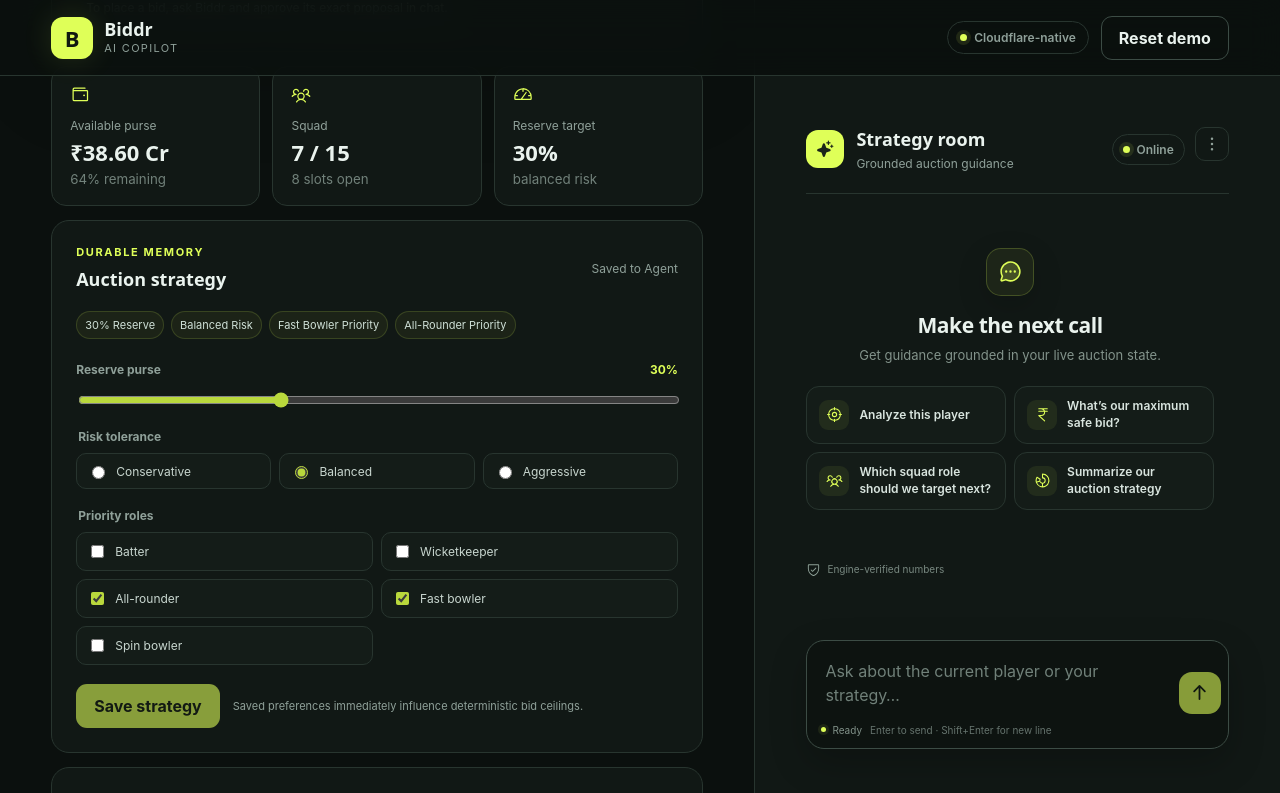
Biddr application shell › shows active preferences and saves strategy changes to the Agent
(page scrolled)
Expected: the element named "Active strategy preferences" shows "30% reserve", [76, 311, 516, 339]
Expected: the element named "Active strategy preferences" shows "balanced risk", [76, 311, 516, 339]
Set the slider labelled "Reserve purse 30%" to "40". click: (347, 400)
box: [78, 392, 680, 408]
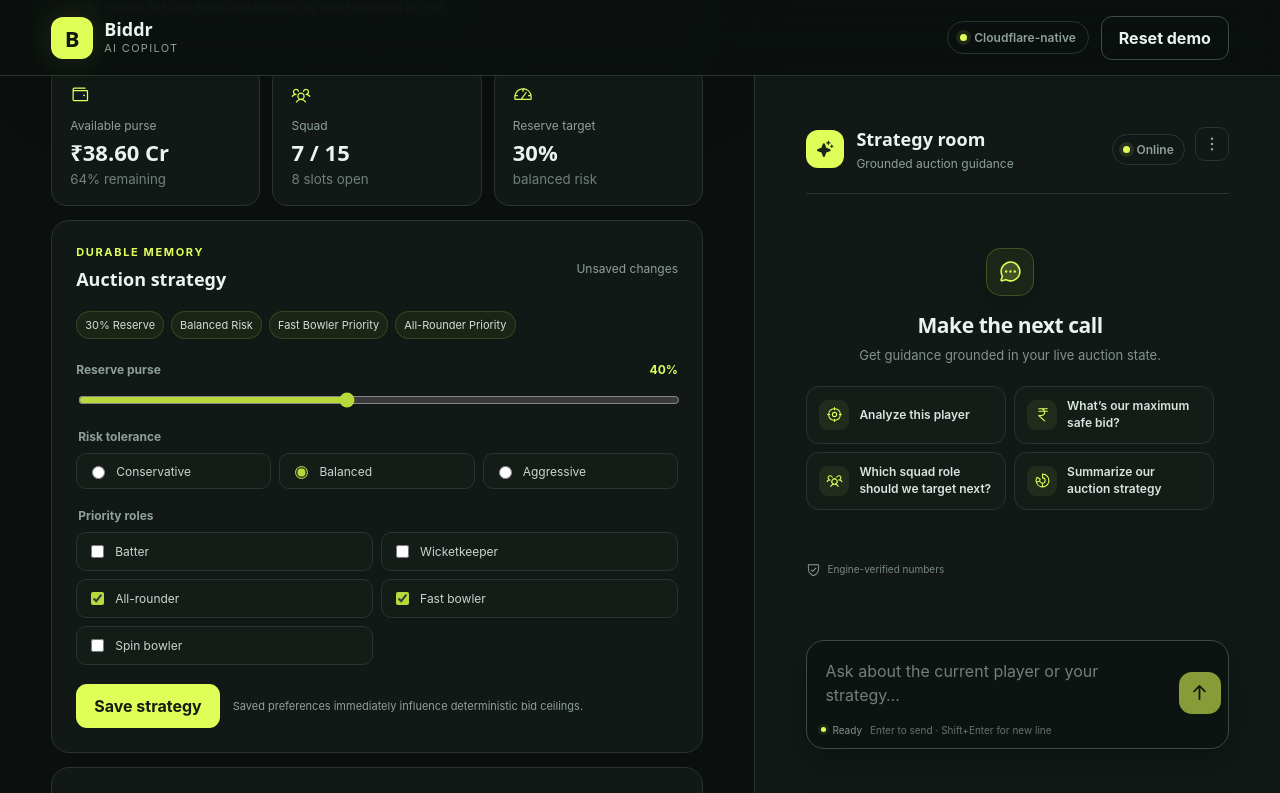
Click the radio button labelled "Aggressive". click: (505, 473)
box: [499, 466, 512, 479]
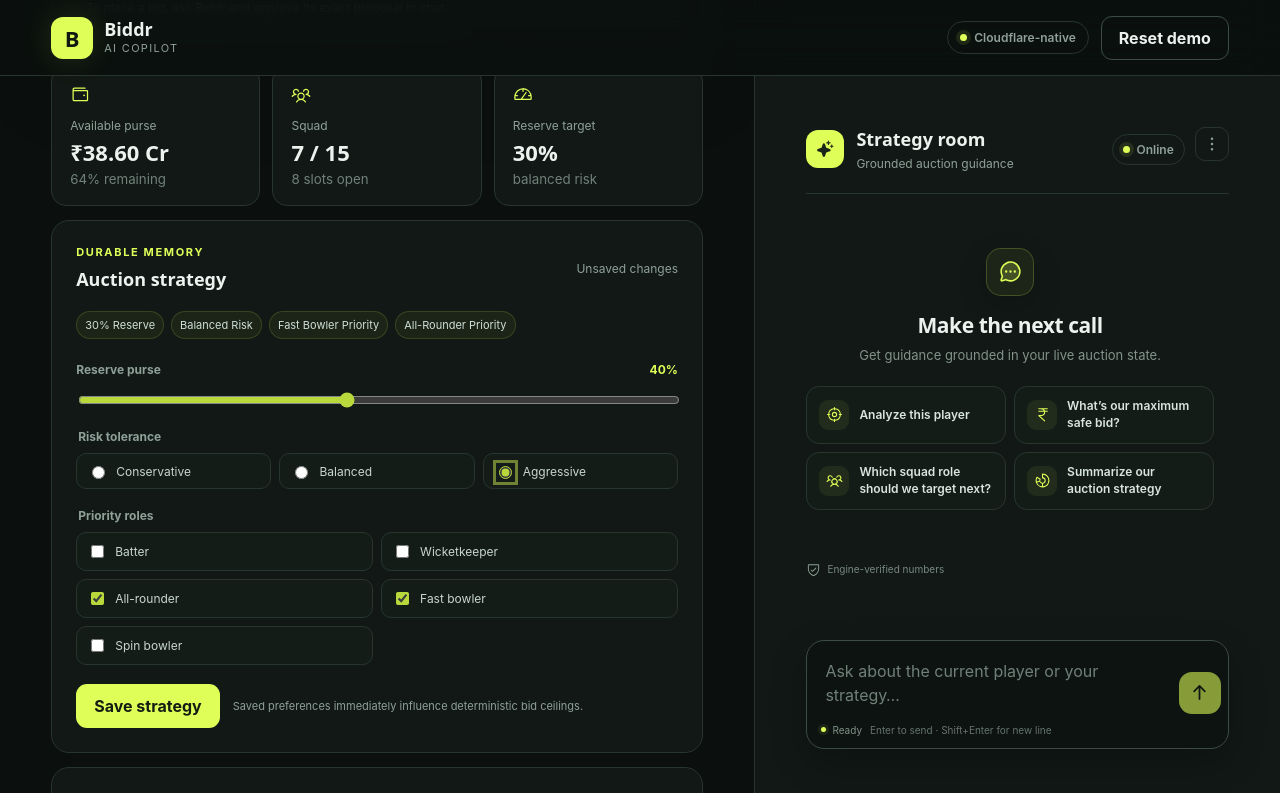
Click the checkbox labelled "Batter". click: (98, 552)
box: [91, 545, 104, 558]
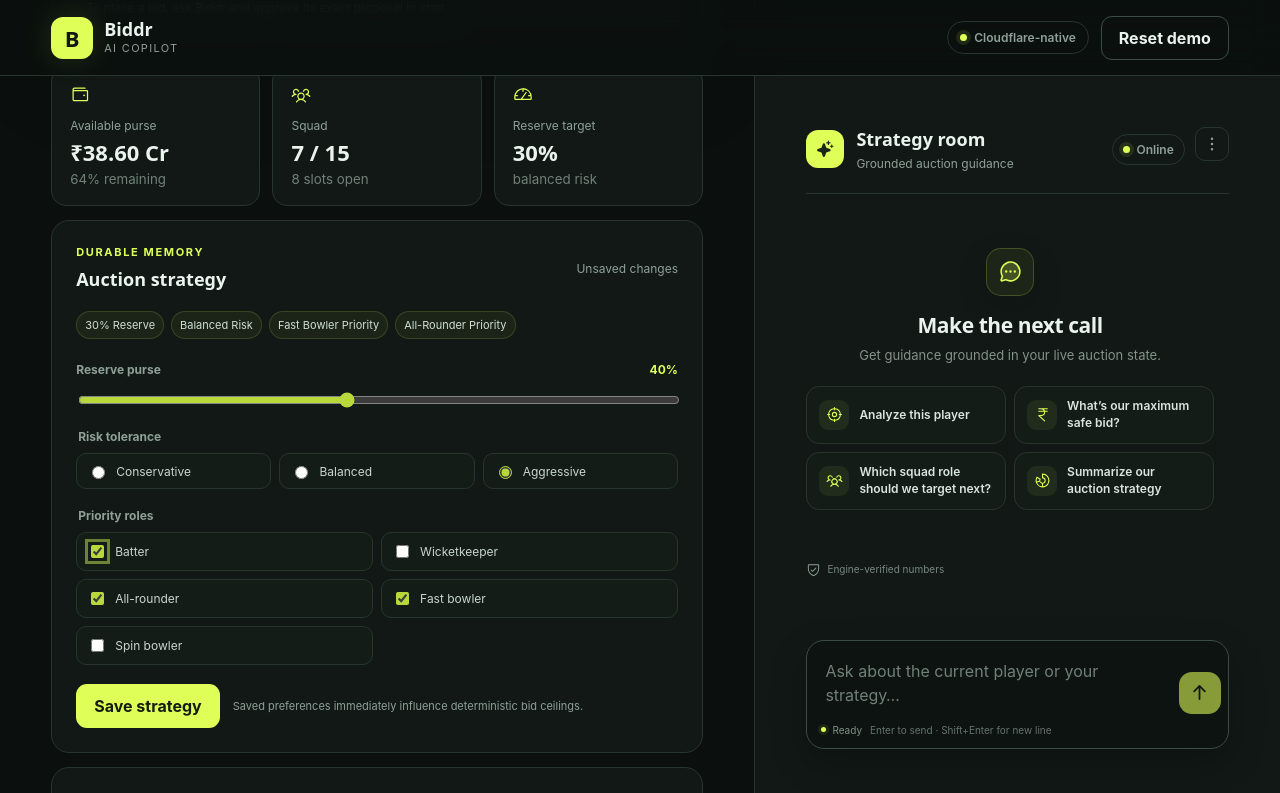
Click the button "Save strategy". click: (148, 706)
box: [76, 684, 220, 728]
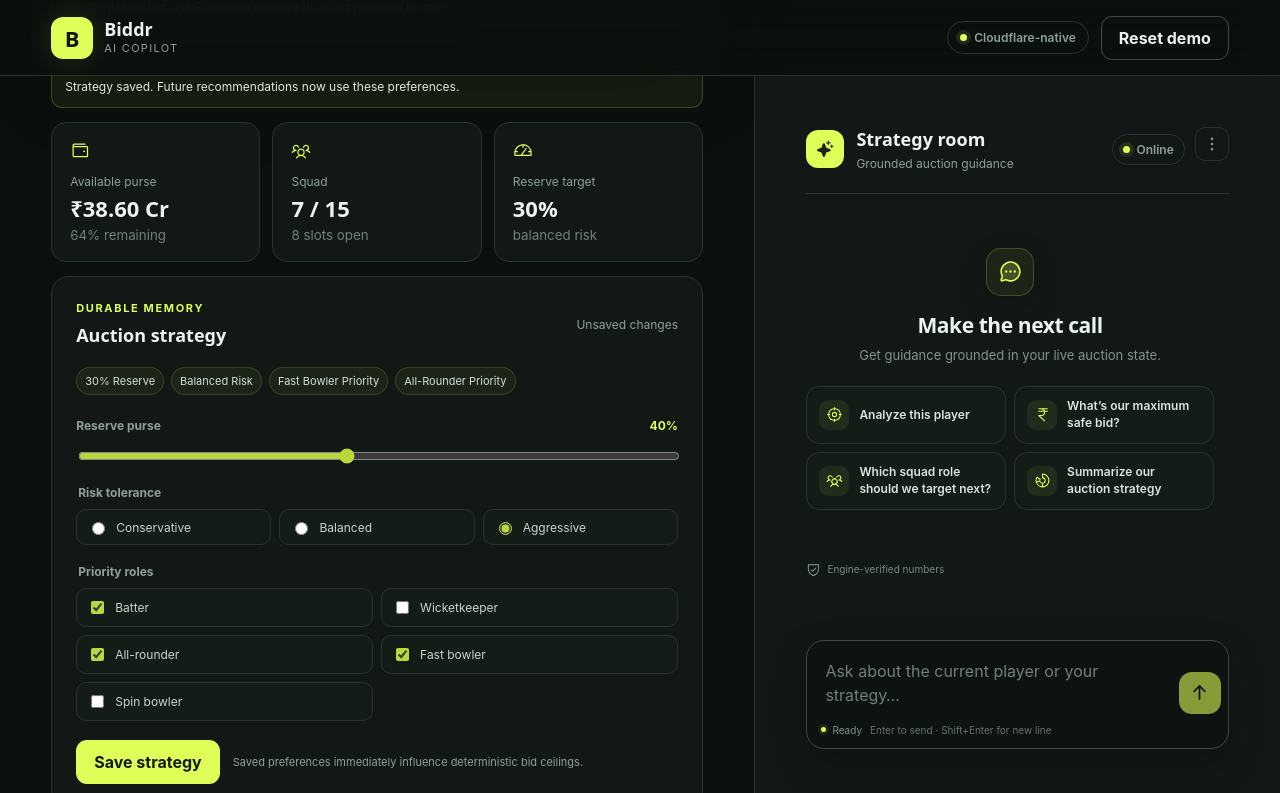
Expected: the text "Strategy saved. Future recommendations now use these preferences." is shown, [51, 66, 703, 108]
